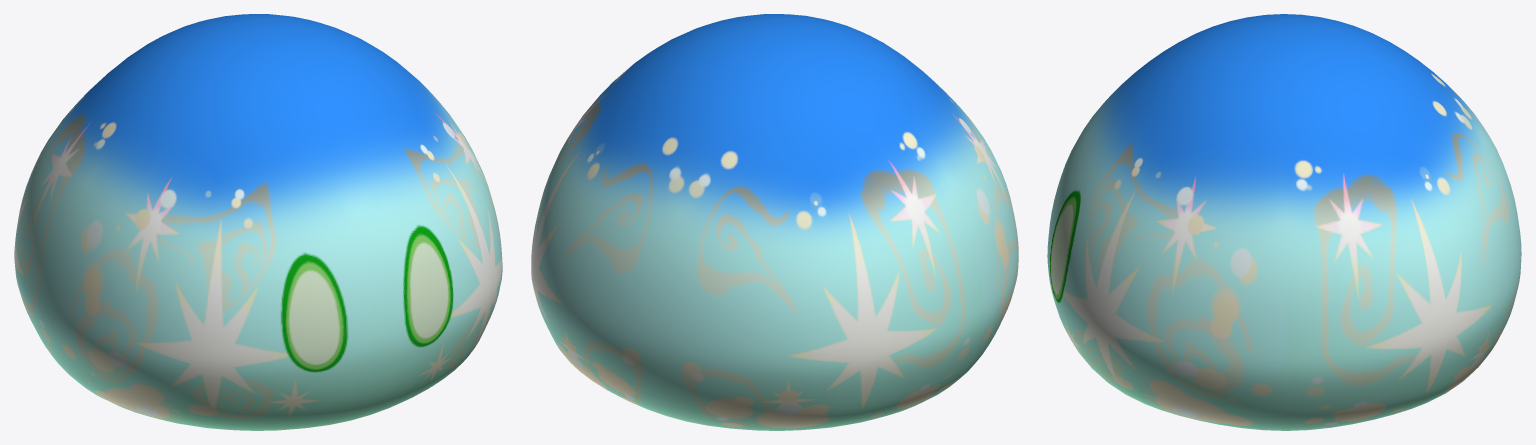
The model's file is King_Slime_IDLEKingSlimeIdle.fbx.
The picture shows the model from 3 angles, left to right: view 1: azimuth 30°, elevation 25°; view 2: azimuth 150°, elevation 25°; view 3: azimuth 270°, elevation 25°; orthographic projection.
Visible parts, largest first — view 1: King; view 2: King; view 3: King.
Part boxes in pixels (<box>): King: <box>14,14,502,430</box>; King: <box>531,14,1018,430</box>; King: <box>1047,14,1521,430</box>.
Bounding box in the file's own units: 25.15 × 20.39 × 25.03.
1 material, 1 textured.
